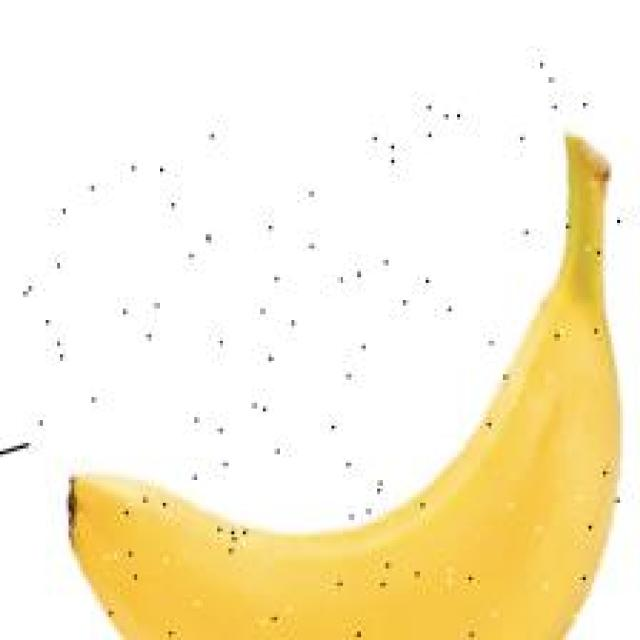banana: (52, 121, 640, 639)
